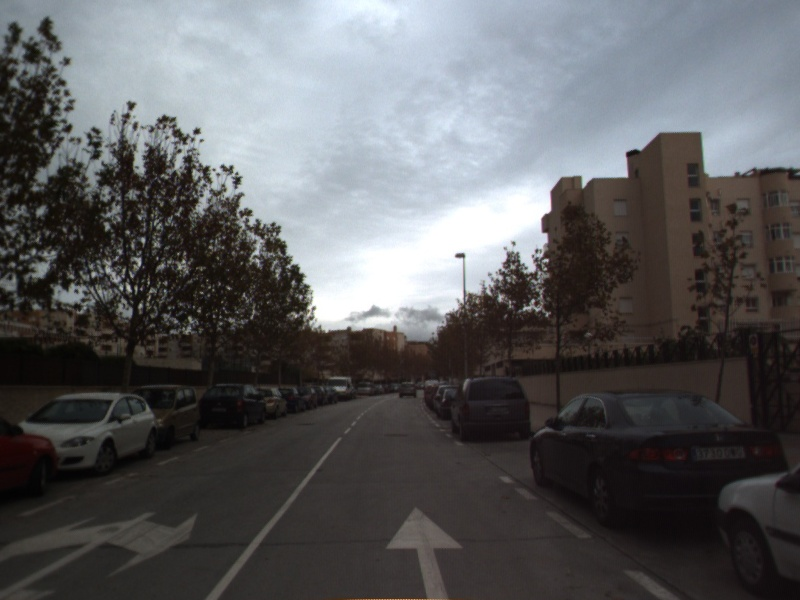STRAIGHT: (382, 503, 468, 600)
